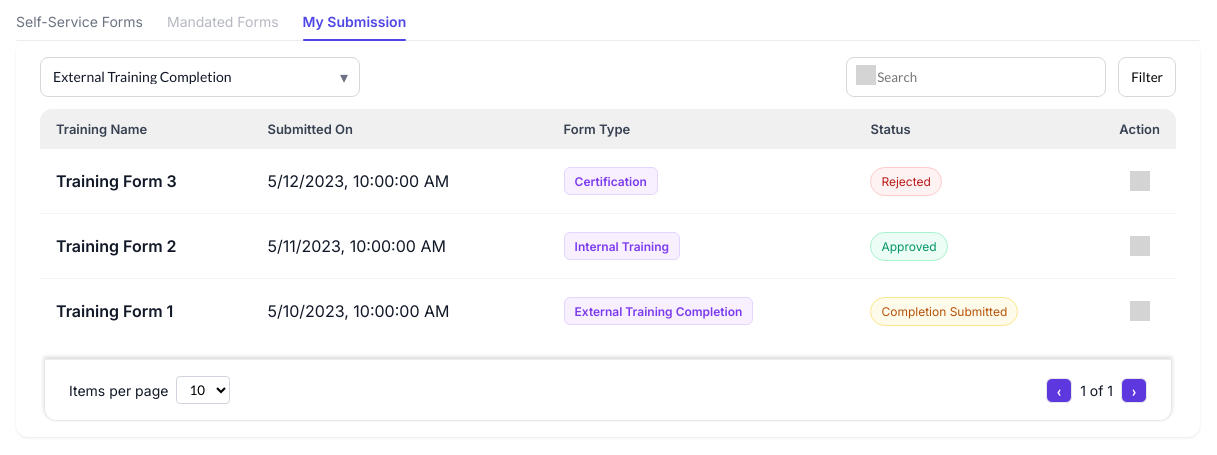
MySubmissions › filters submissions by search term
This screenshot has width=1217, height=455.
expect the table is shown: met, box x1=40 y1=109 x2=1176 y2=343
# Search for "Form 3"
Type "Form 3" into the field with placeholder "Search" at (976, 77), box x1=846 y1=57 x2=1106 y2=97
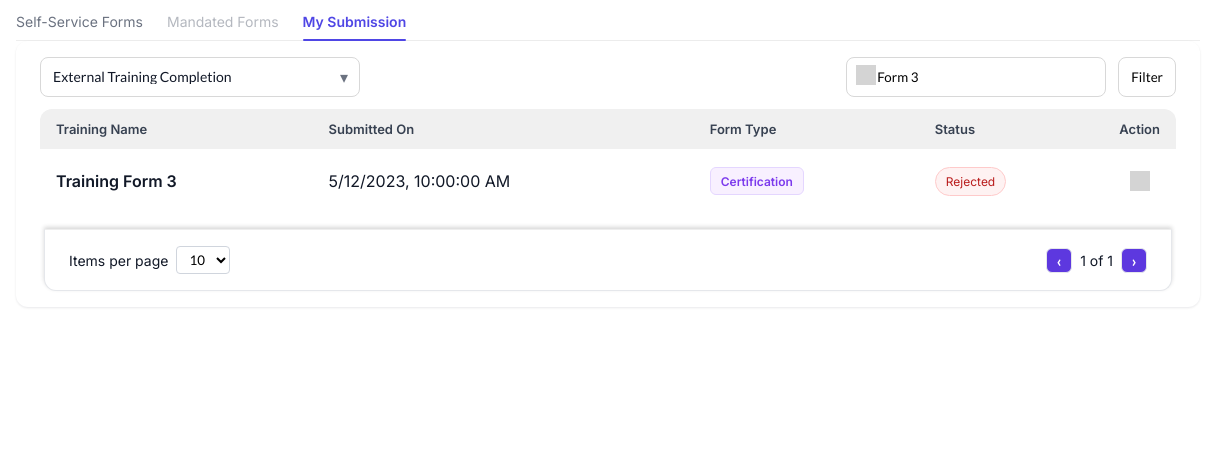
expect the number of rows is 2: met, box x1=40 y1=109 x2=1176 y2=149; x1=40 y1=149 x2=1176 y2=213
expect the text "Training Form 1" is gone: met
expect the text "Training Form 2" is gone: met
